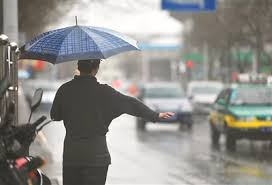hand: (159, 110, 174, 120)
